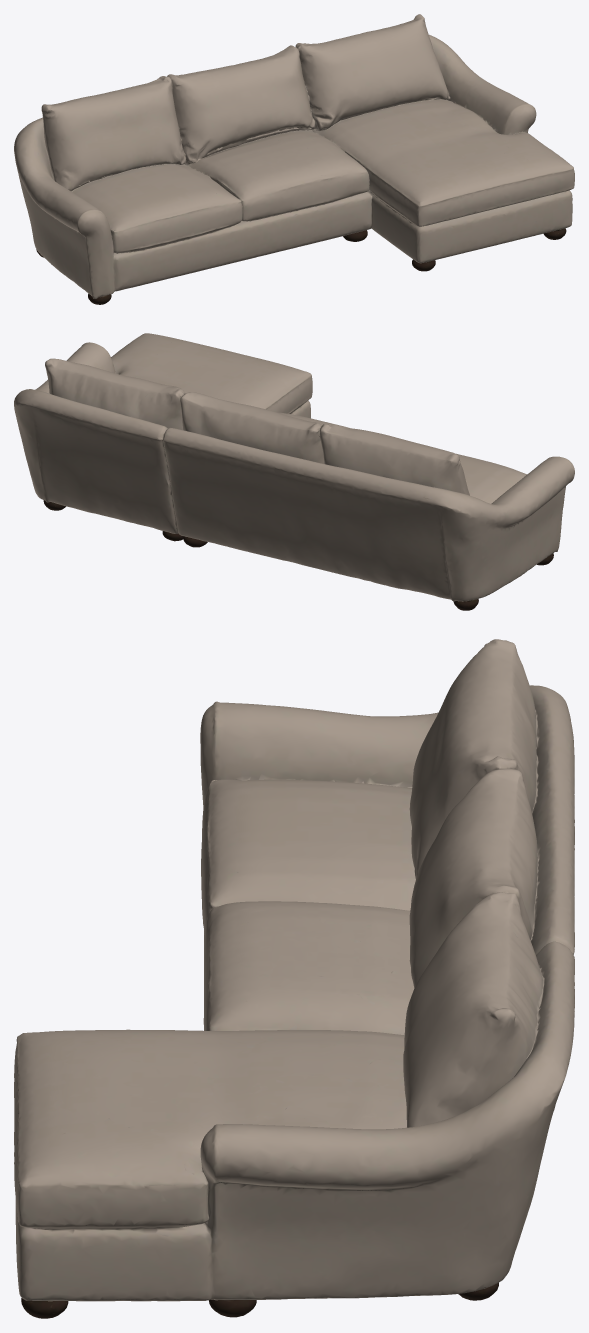
The model's file is ohYwriR0KmfgxEUcluwLp.glb.
The picture shows the model from 3 angles, top to bottom: view 1: azimuth 30°, elevation 25°; view 2: azimuth 150°, elevation 25°; view 3: azimuth 270°, elevation 25°; orthographic projection. The views are drawn at different scales.
Visible parts, largest first — view 1: world; view 2: world; view 3: world.
Boxes of the visible parts, bbox=[...] form: world: bbox=[14, 14, 574, 304]; world: bbox=[14, 333, 574, 610]; world: bbox=[14, 639, 574, 1318].
Bounding box in the file's own units: 0.9967 × 0.3007 × 0.5281.
1 material, 1 textured.
